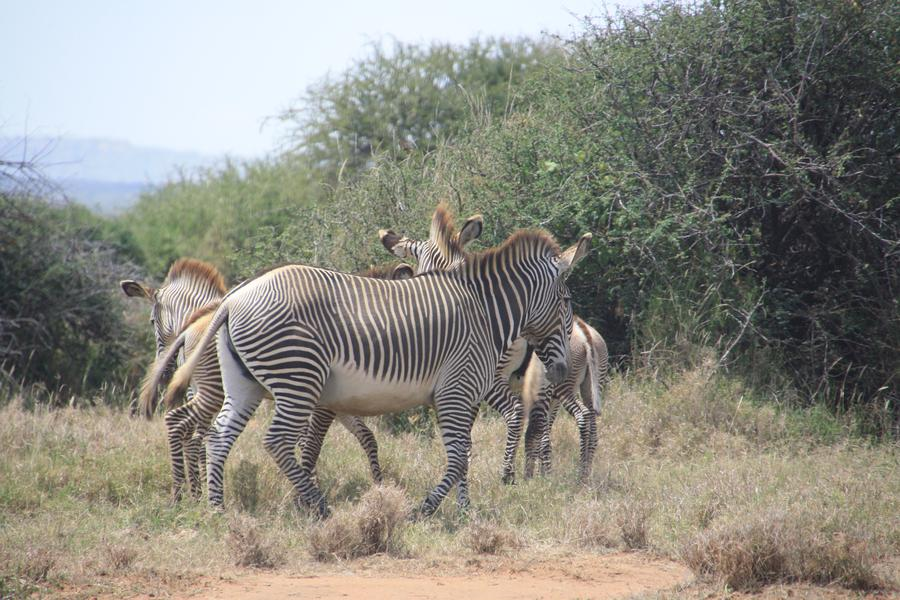zebra_grevys: (223, 263, 492, 398)
